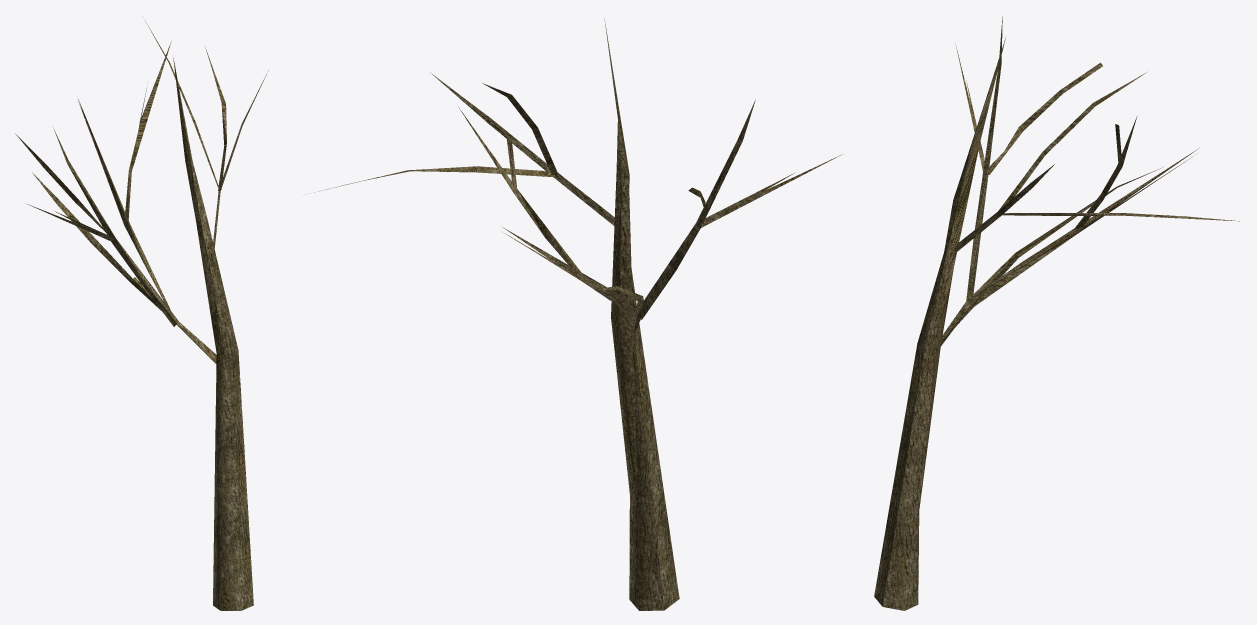
File: watertree_bark1_lod2.fbx
3 views of the same model, side by side, from view 1: azimuth 30°, elevation 25°; view 2: azimuth 150°, elevation 25°; view 3: azimuth 270°, elevation 25° (orthographic). The views are drawn at different scales.
Visible parts, largest first — view 1: Mesh Object; view 2: Mesh Object; view 3: Mesh Object.
Boxes of the visible parts, x1=… form: Mesh Object: x1=15, y1=16, x2=266, y2=610; Mesh Object: x1=318, y1=20, x2=841, y2=610; Mesh Object: x1=874, y1=16, x2=1239, y2=610.
Size of the model in its own units: 1.5 by 2.38 by 1.41.
